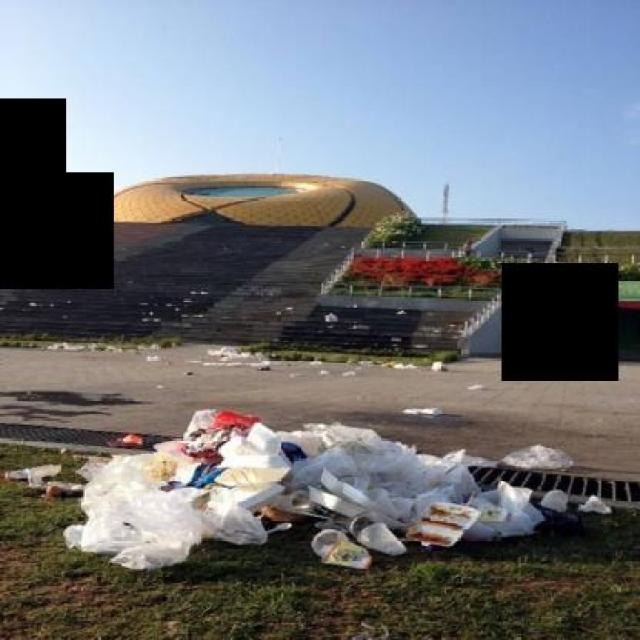plastic bag: (38, 397, 630, 572), (286, 429, 551, 540), (42, 328, 183, 358), (186, 343, 299, 379), (483, 442, 588, 476), (342, 351, 464, 380), (397, 400, 446, 426)
